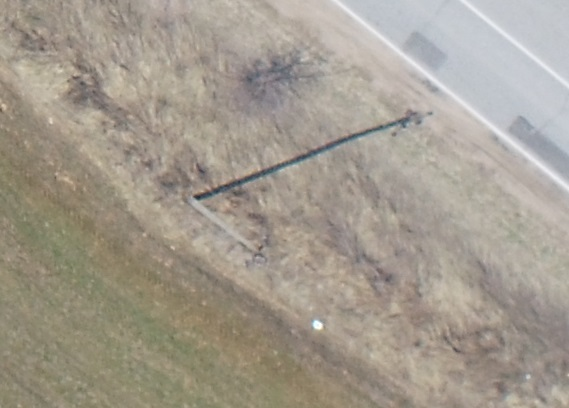opora: (186, 172, 274, 269)
